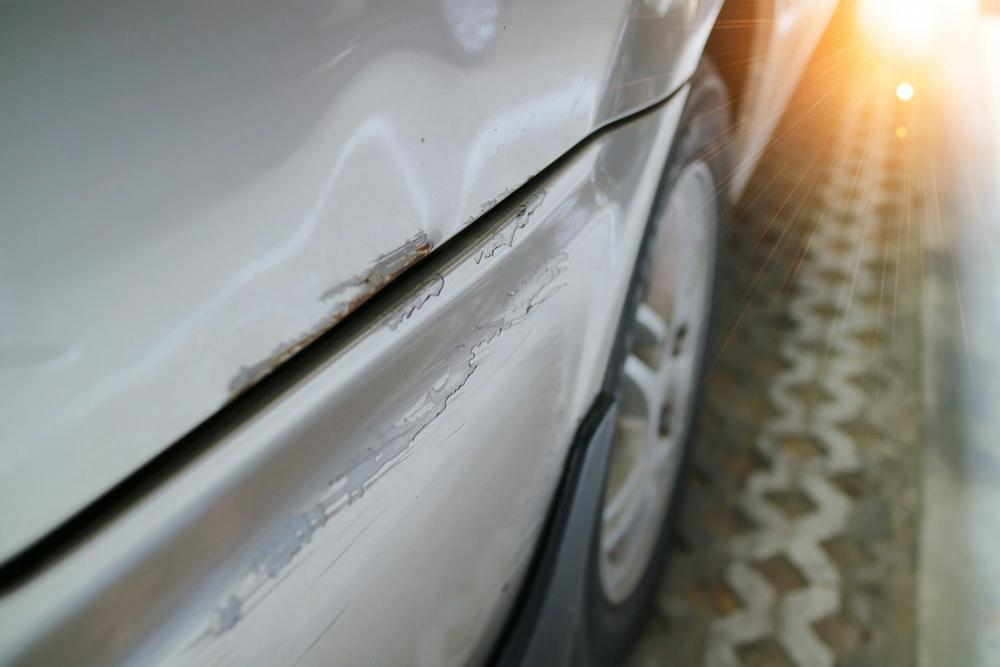scratch: (140, 239, 581, 667), (213, 224, 439, 399)
